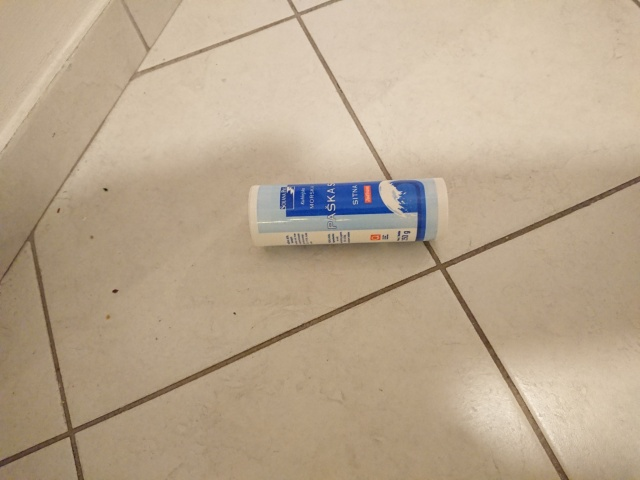Solana Pag Fine Sea Salt 250g: (243, 175, 454, 249)
